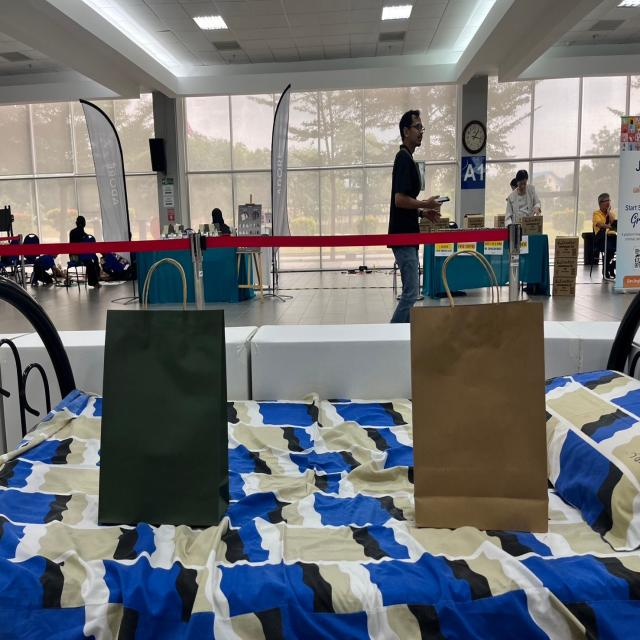bag: (411, 249, 540, 539), (104, 259, 223, 530)
